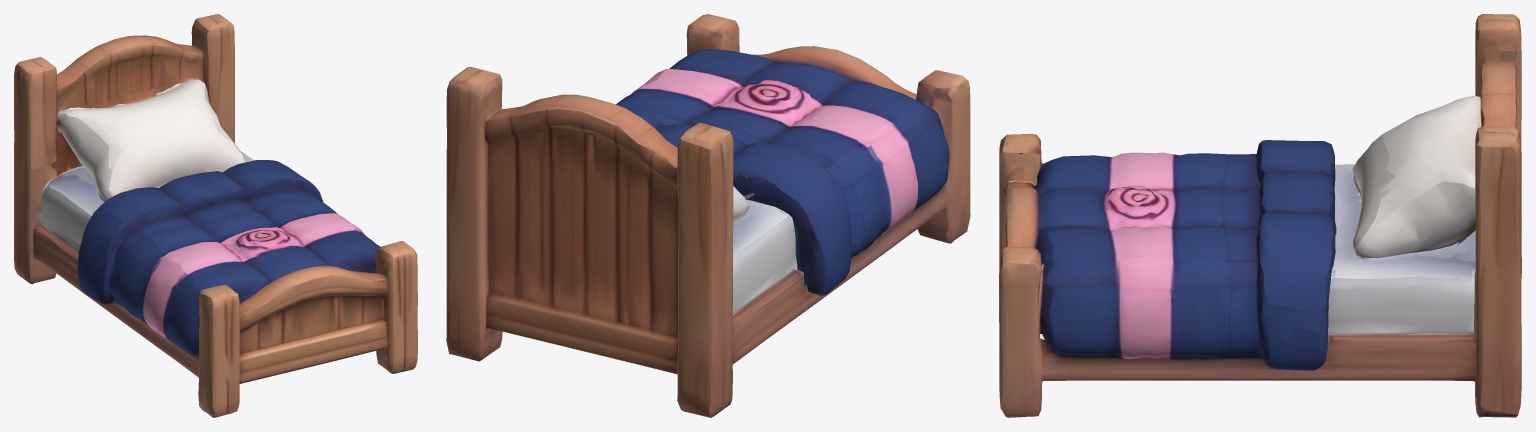
The model's file is bed.glb.
3 renders of one model, left to right at view 1: azimuth 30°, elevation 25°; view 2: azimuth 150°, elevation 25°; view 3: azimuth 270°, elevation 25°, orthographic. The views are drawn at different scales.
Parts seen in each view (by area): view 1: bed_s15; view 2: bed_s15; view 3: bed_s15.
Part boxes in pixels (bbox=[...]): bed_s15: bbox=[14, 14, 417, 417]; bed_s15: bbox=[446, 14, 970, 417]; bed_s15: bbox=[999, 14, 1521, 417].
Bounding box in the file's own units: 0.6673 × 0.5909 × 1.
1 material, 1 textured.
